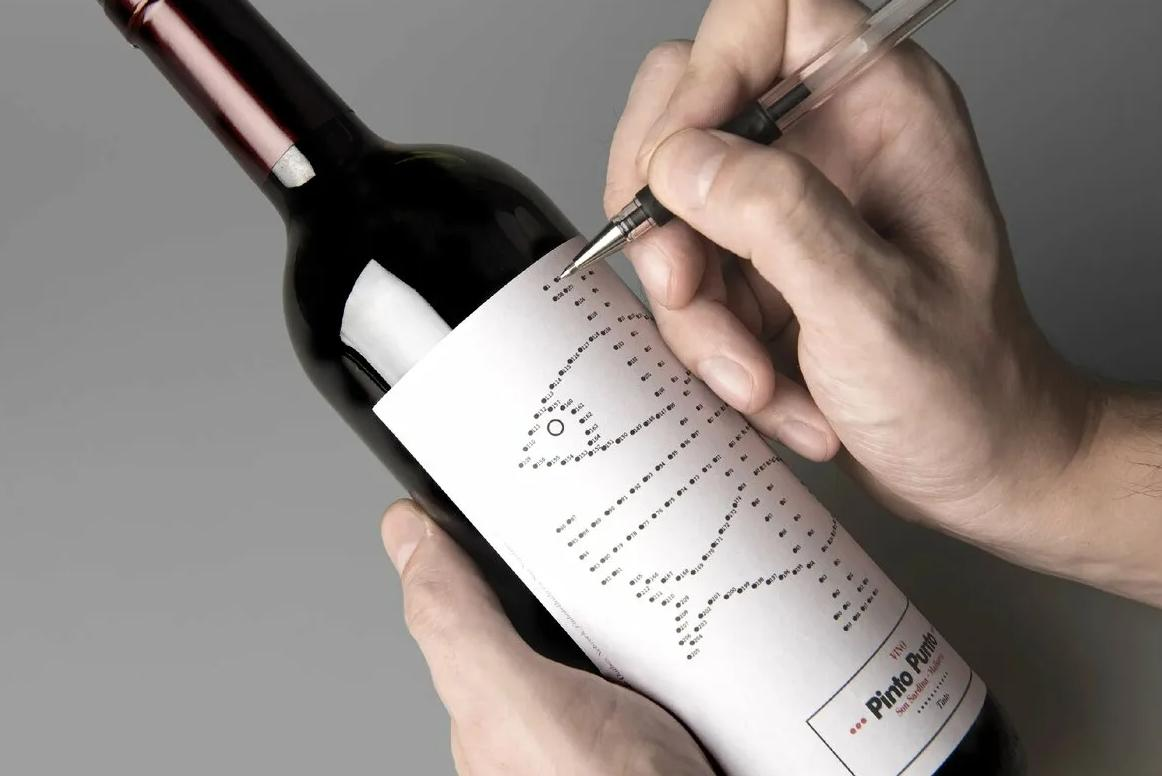wine bottle: (95, 0, 1031, 776)
wine label: (370, 228, 990, 775)
